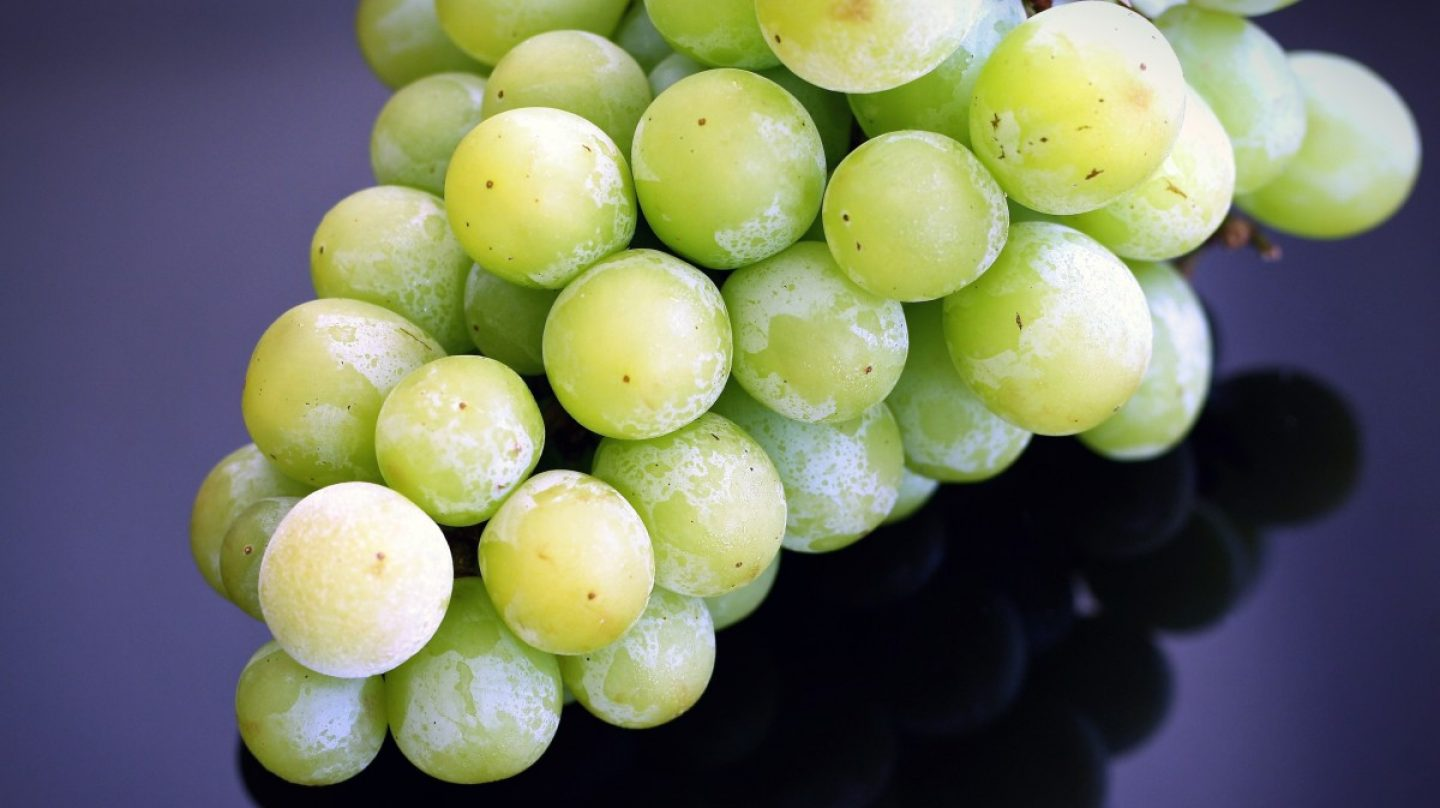Green grapes: (362, 59, 1144, 585), (641, 88, 838, 264)
